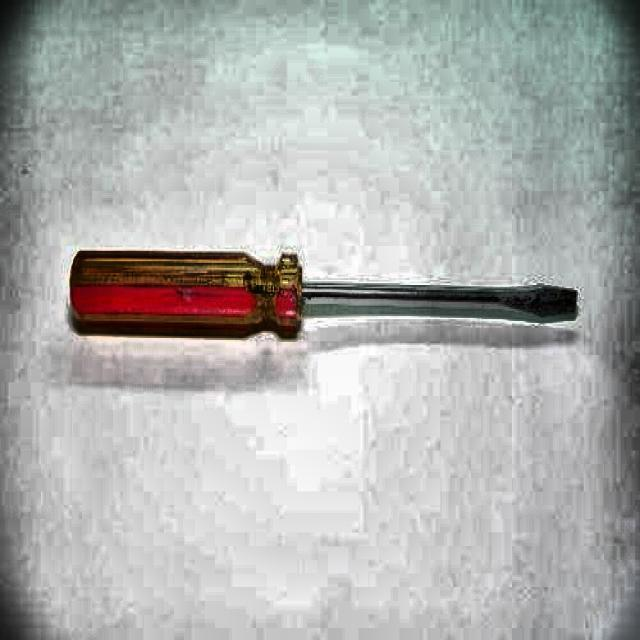screwdriver: (71, 250, 579, 337)
